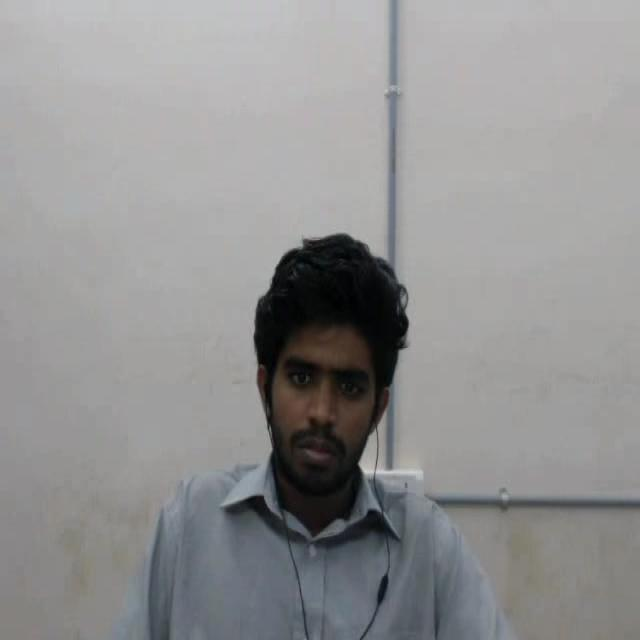Engaged: (242, 204, 426, 558)
